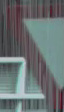Give way: (7, 0, 63, 96)
